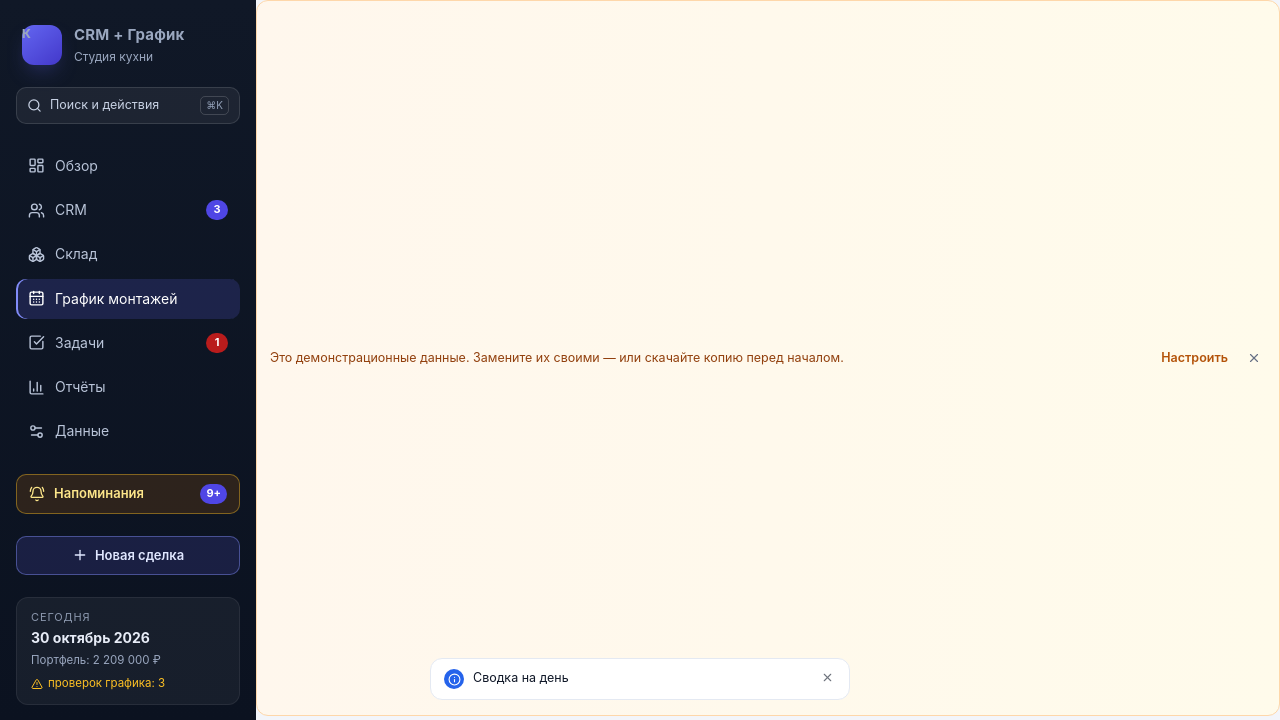
Test: приложение целиком › открывает экран задач
Click the button "Задачи 1": (128, 343) x1=16 y1=323 x2=240 y2=363
(page scrolled)
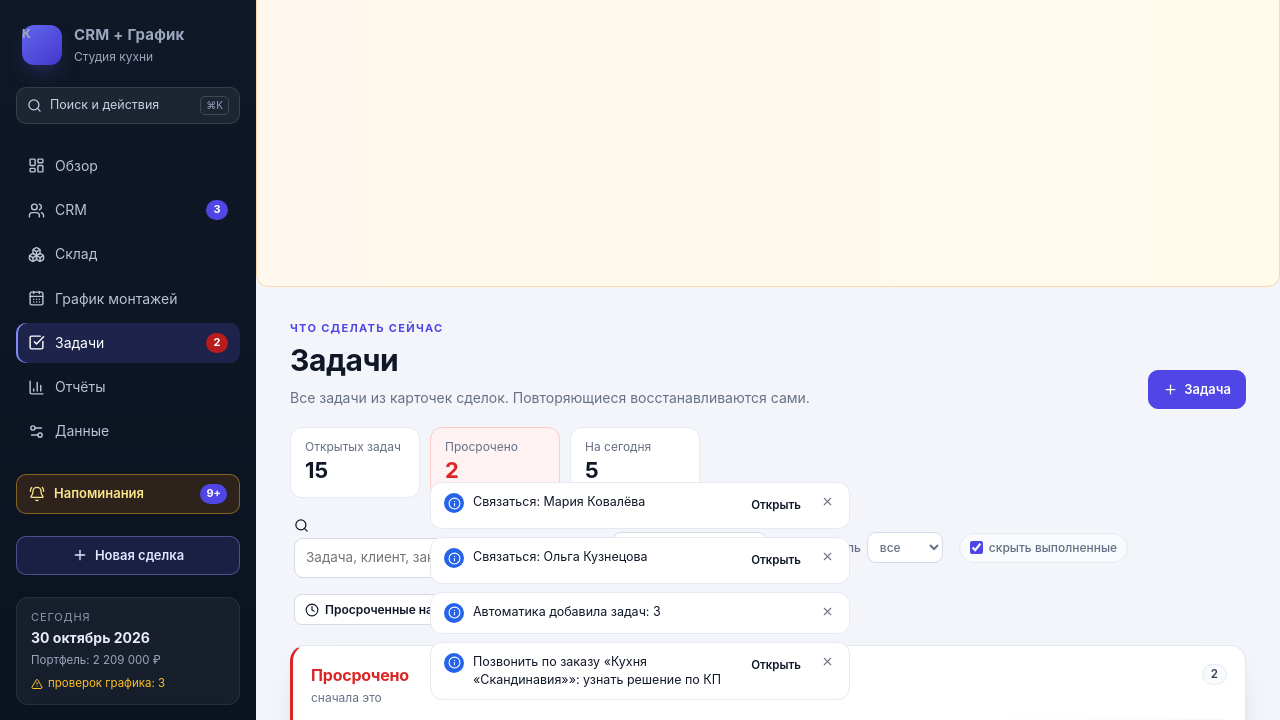
Expected: the heading "Задачи" is shown, x1=290 y1=342 x2=398 y2=378
